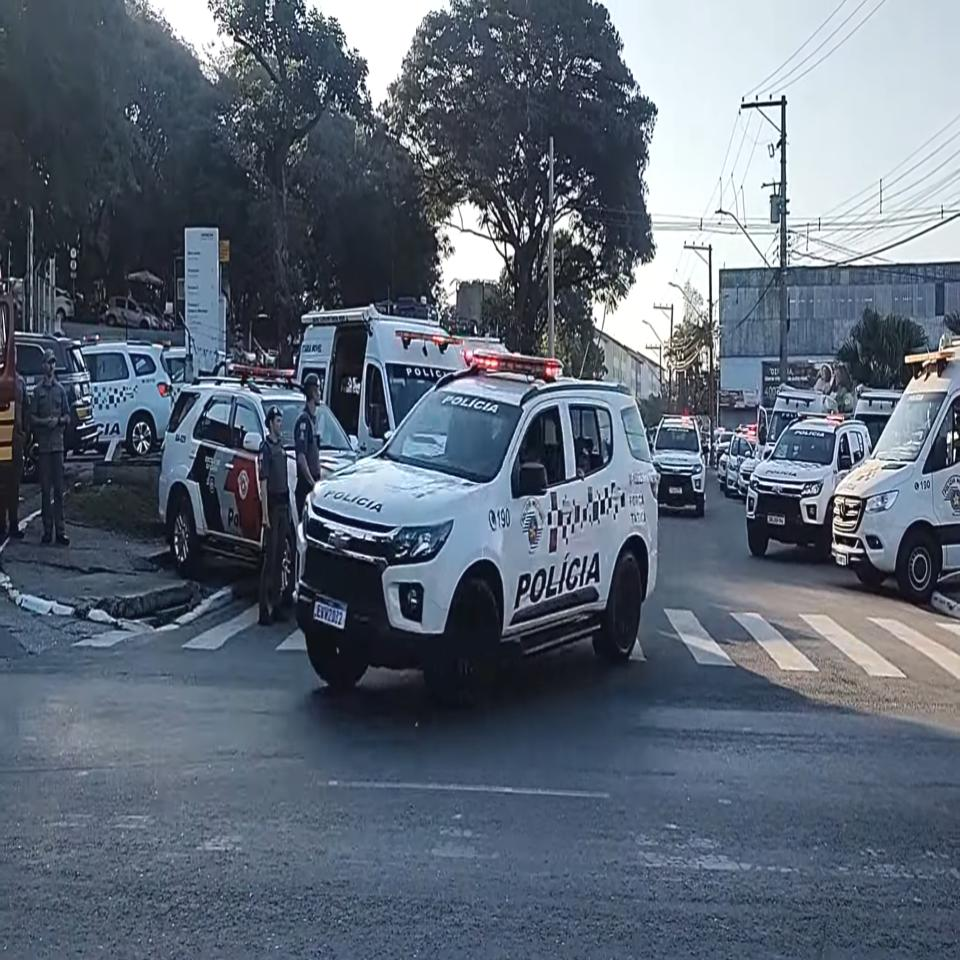viatura: (292, 346, 660, 702), (744, 412, 873, 560), (650, 409, 710, 518)
